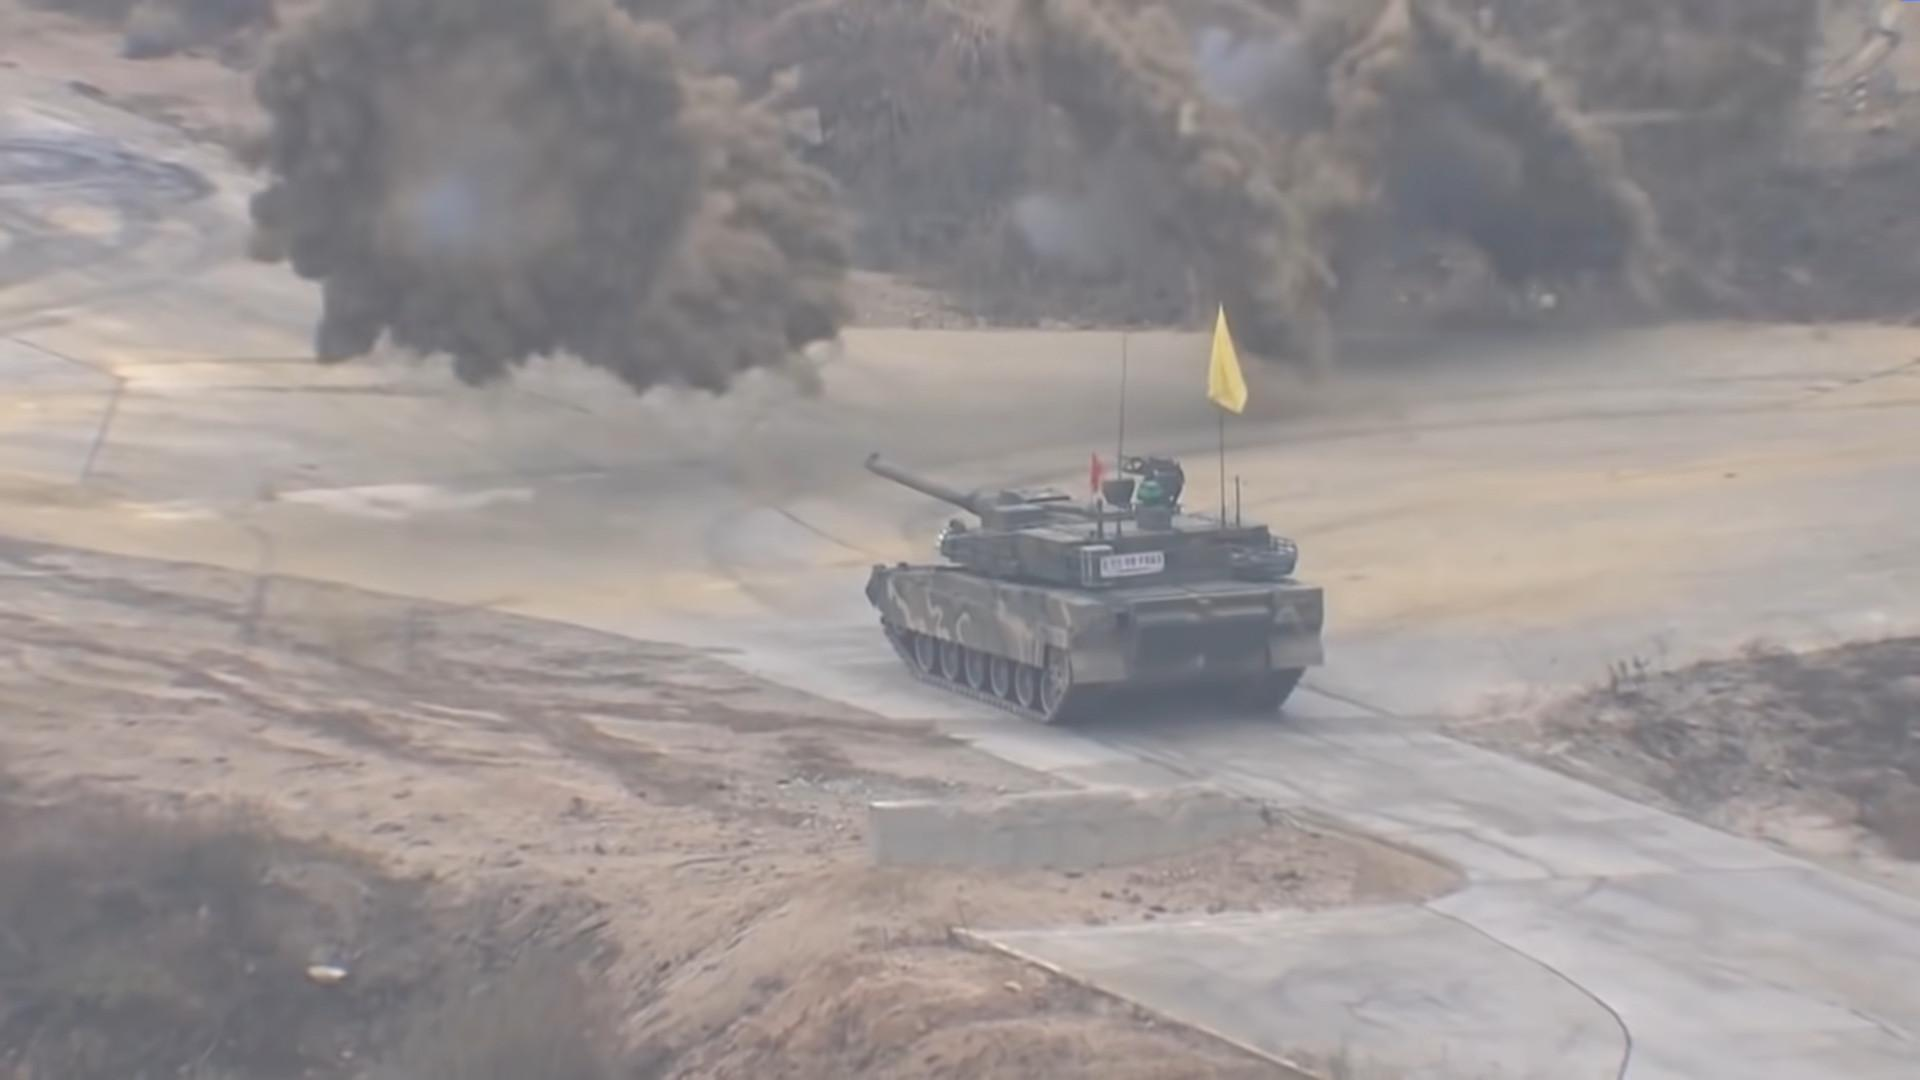tank: (865, 455, 1321, 723)
